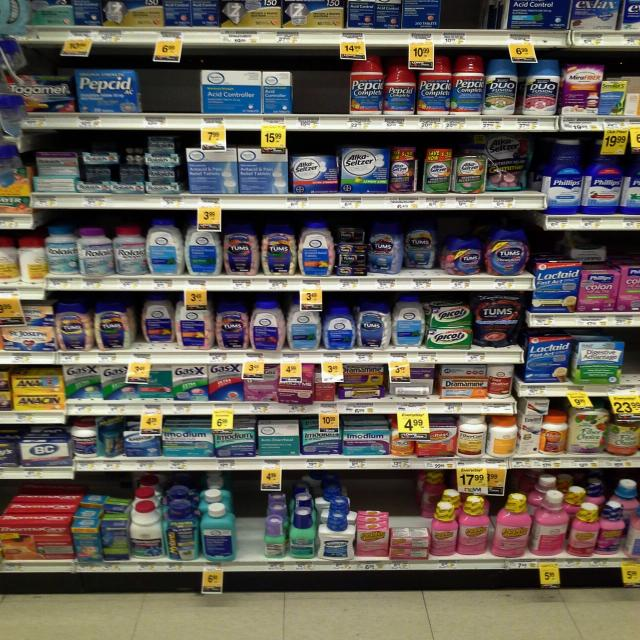empty_space: (154, 71, 190, 113), (307, 64, 337, 114), (362, 472, 410, 500), (626, 345, 640, 385)
